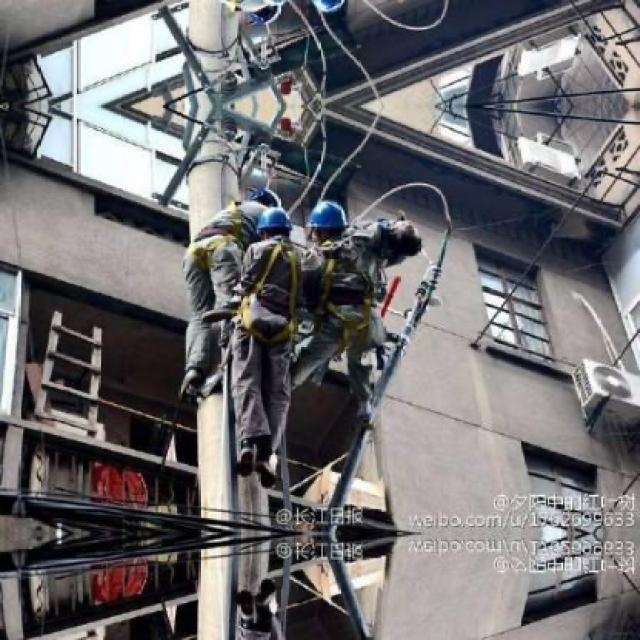Arnes_seguridad: (236, 239, 300, 345), (313, 248, 373, 353), (187, 216, 242, 280)
